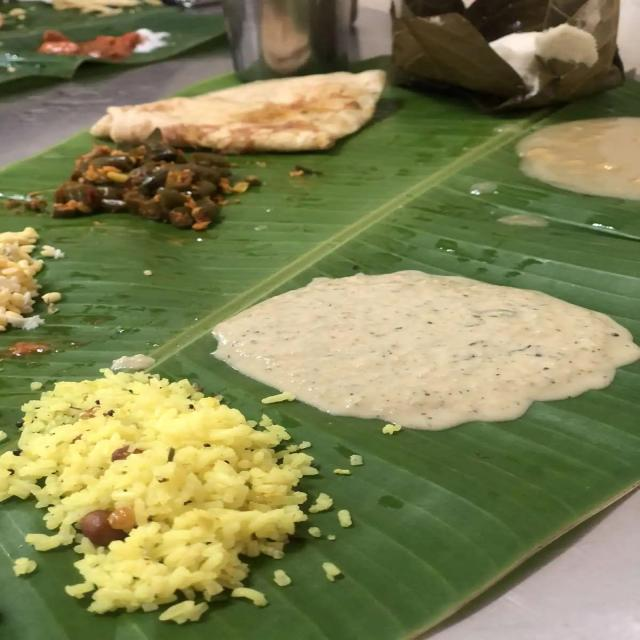veg meals: (0, 46, 640, 630)
